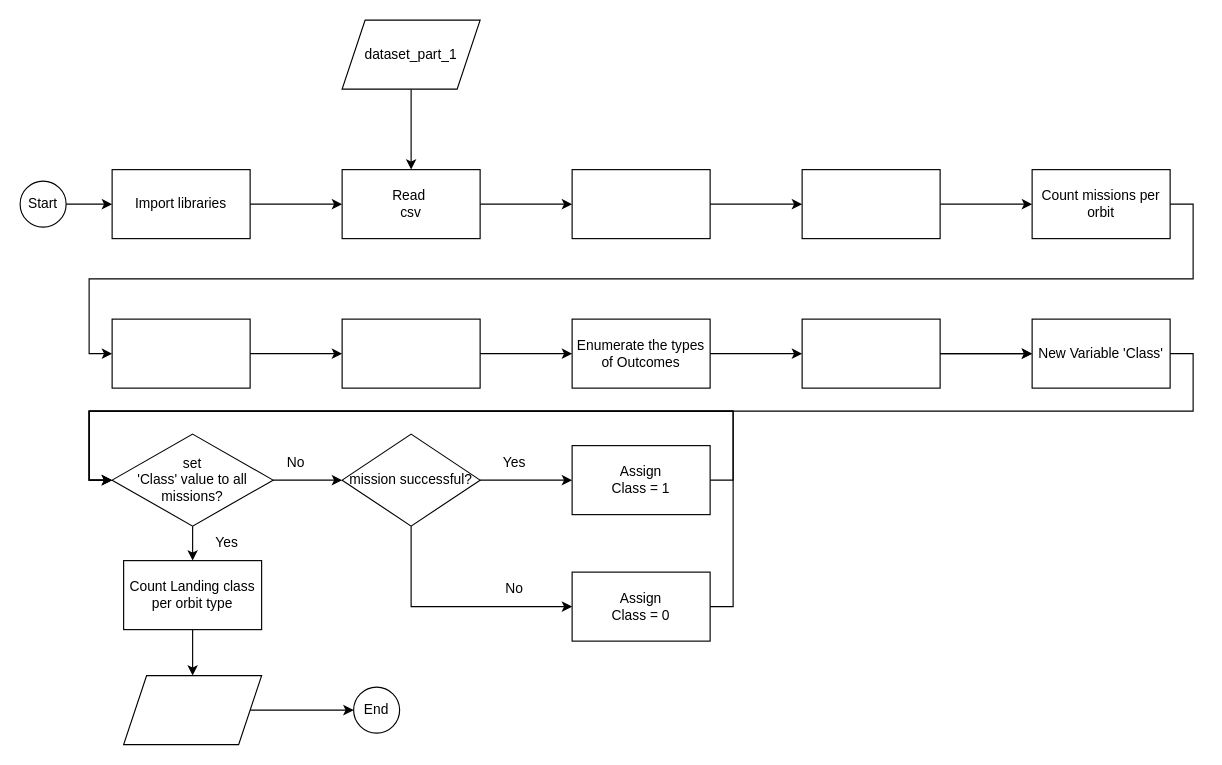
Some shapes in this 1222 by 765 pixel diagram are drawn without their labels. Each missing label, with the centre of its shape:
"Calculate percentage of null cells|" goes at pixel 640 203.
"Count launches per Launch-site" goes at pixel 870 203.
"Count Mission-Outcome per orbit" goes at pixel 180 353.
"Count Missions per Mission-Outcome" goes at pixel 410 353.
"Create csv file" goes at pixel 192 709.
"Select the unsuccessful outcomes" goes at pixel 870 353.
